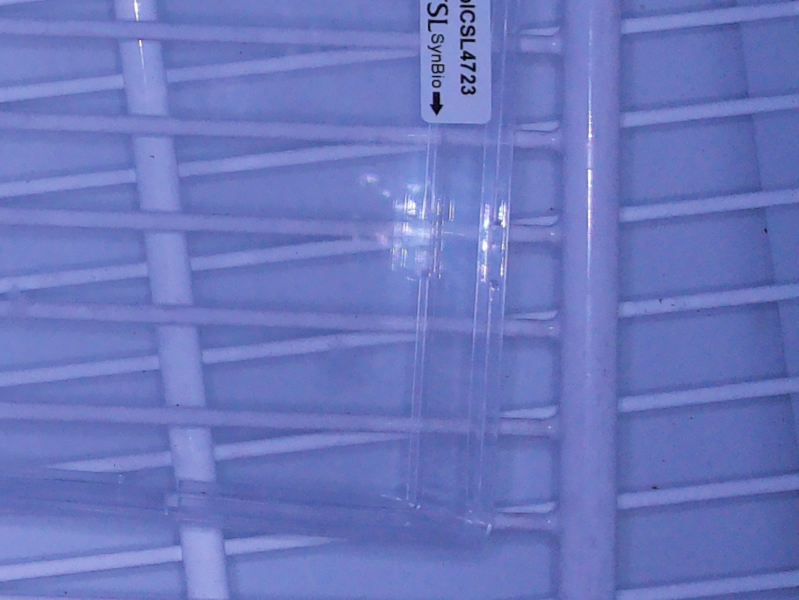plate: (1, 1, 522, 551)
